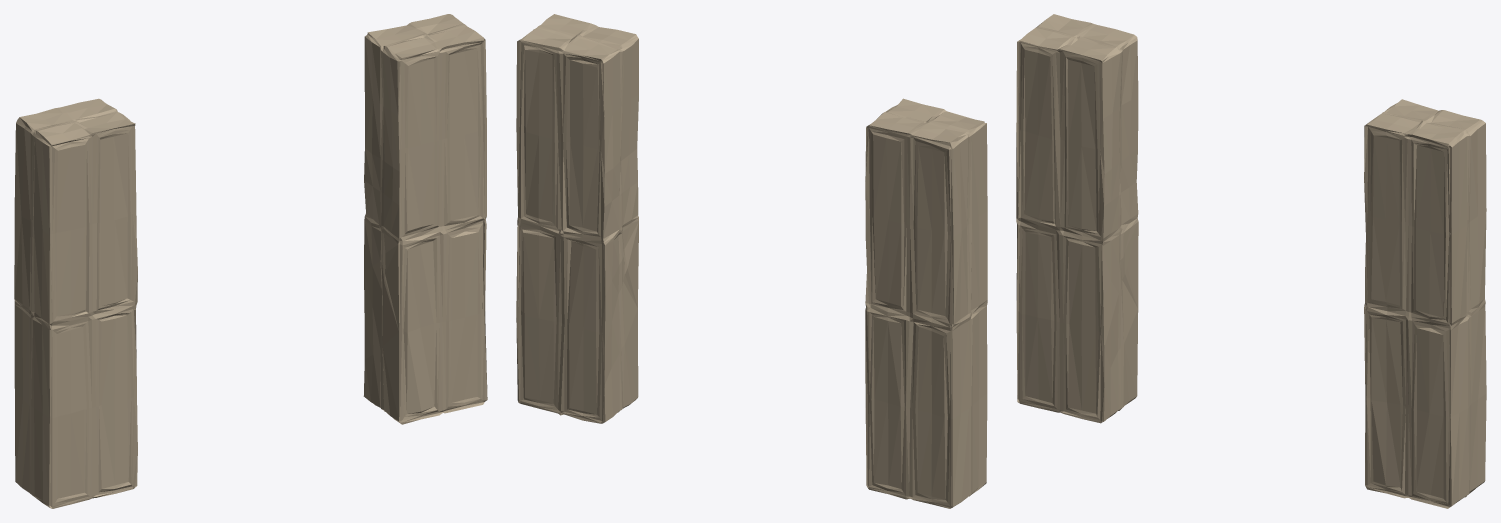
The model's file is SM_Arch.fbx.
3 views of the same model, side by side, from view 1: azimuth 30°, elevation 25°; view 2: azimuth 150°, elevation 25°; view 3: azimuth 330°, elevation 25° (orthographic).
Parts seen in each view (by area): view 1: SM_Arch; view 2: SM_Arch; view 3: SM_Arch.
Part boxes in pixels (x1,y1,x2,y2): SM_Arch: (14, 14, 487, 508); SM_Arch: (516, 14, 987, 508); SM_Arch: (1016, 14, 1486, 508).
Size of the model in its own units: 4.02 by 3.23 by 0.5731.
